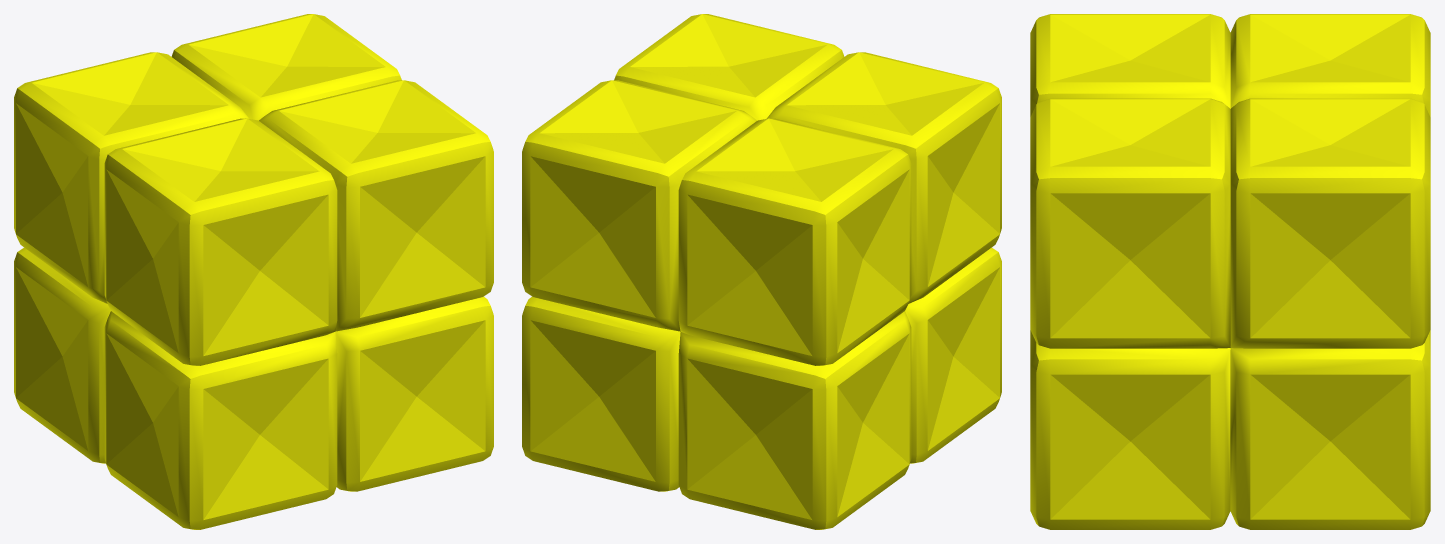
Rendered from kaykit-metal.glb.
The picture shows the model from 3 angles, left to right: view 1: azimuth 30°, elevation 25°; view 2: azimuth 150°, elevation 25°; view 3: azimuth 270°, elevation 25°; orthographic projection. The views are drawn at different scales.
Visible parts, largest first — view 1: metal; view 2: metal; view 3: metal.
Boxes of the visible parts, left/top/right/bottom form: metal: left=14, top=14, right=493, bottom=529; metal: left=522, top=14, right=1001, bottom=529; metal: left=1030, top=14, right=1430, bottom=529.
Bounding box in the file's own units: 2 × 2 × 2.
